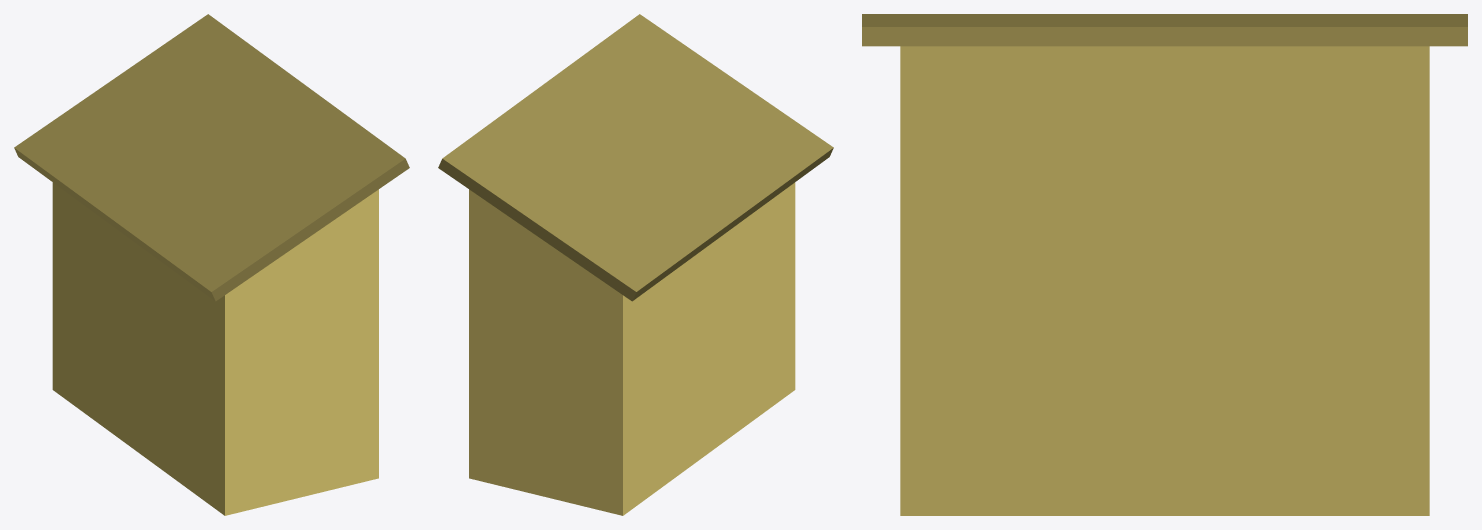
Rendered from result.glb.
3 renders of one model, left to right at view 1: azimuth 30°, elevation 25°; view 2: azimuth 150°, elevation 25°; view 3: azimuth 270°, elevation 25°, orthographic. The views are drawn at different scales.
Parts seen in each view (by area): view 1: 05c763c0-99dd-4e64-8daa-0dca3eba2be4__undefined, 37d4887c-472d-4a6e-8714-61fe8686429c__undefined; view 2: 05c763c0-99dd-4e64-8daa-0dca3eba2be4__undefined, 37d4887c-472d-4a6e-8714-61fe8686429c__undefined; view 3: 05c763c0-99dd-4e64-8daa-0dca3eba2be4__undefined, 37d4887c-472d-4a6e-8714-61fe8686429c__undefined.
Part boxes in pixels (x1,y1,x2,y2): 05c763c0-99dd-4e64-8daa-0dca3eba2be4__undefined: (52, 182, 378, 515); 37d4887c-472d-4a6e-8714-61fe8686429c__undefined: (14, 14, 409, 301); 05c763c0-99dd-4e64-8daa-0dca3eba2be4__undefined: (469, 182, 795, 515); 37d4887c-472d-4a6e-8714-61fe8686429c__undefined: (438, 14, 833, 301); 05c763c0-99dd-4e64-8daa-0dca3eba2be4__undefined: (900, 46, 1429, 515); 37d4887c-472d-4a6e-8714-61fe8686429c__undefined: (862, 14, 1467, 46).
Bounding box in the file's own units: 457 × 717 × 788.
